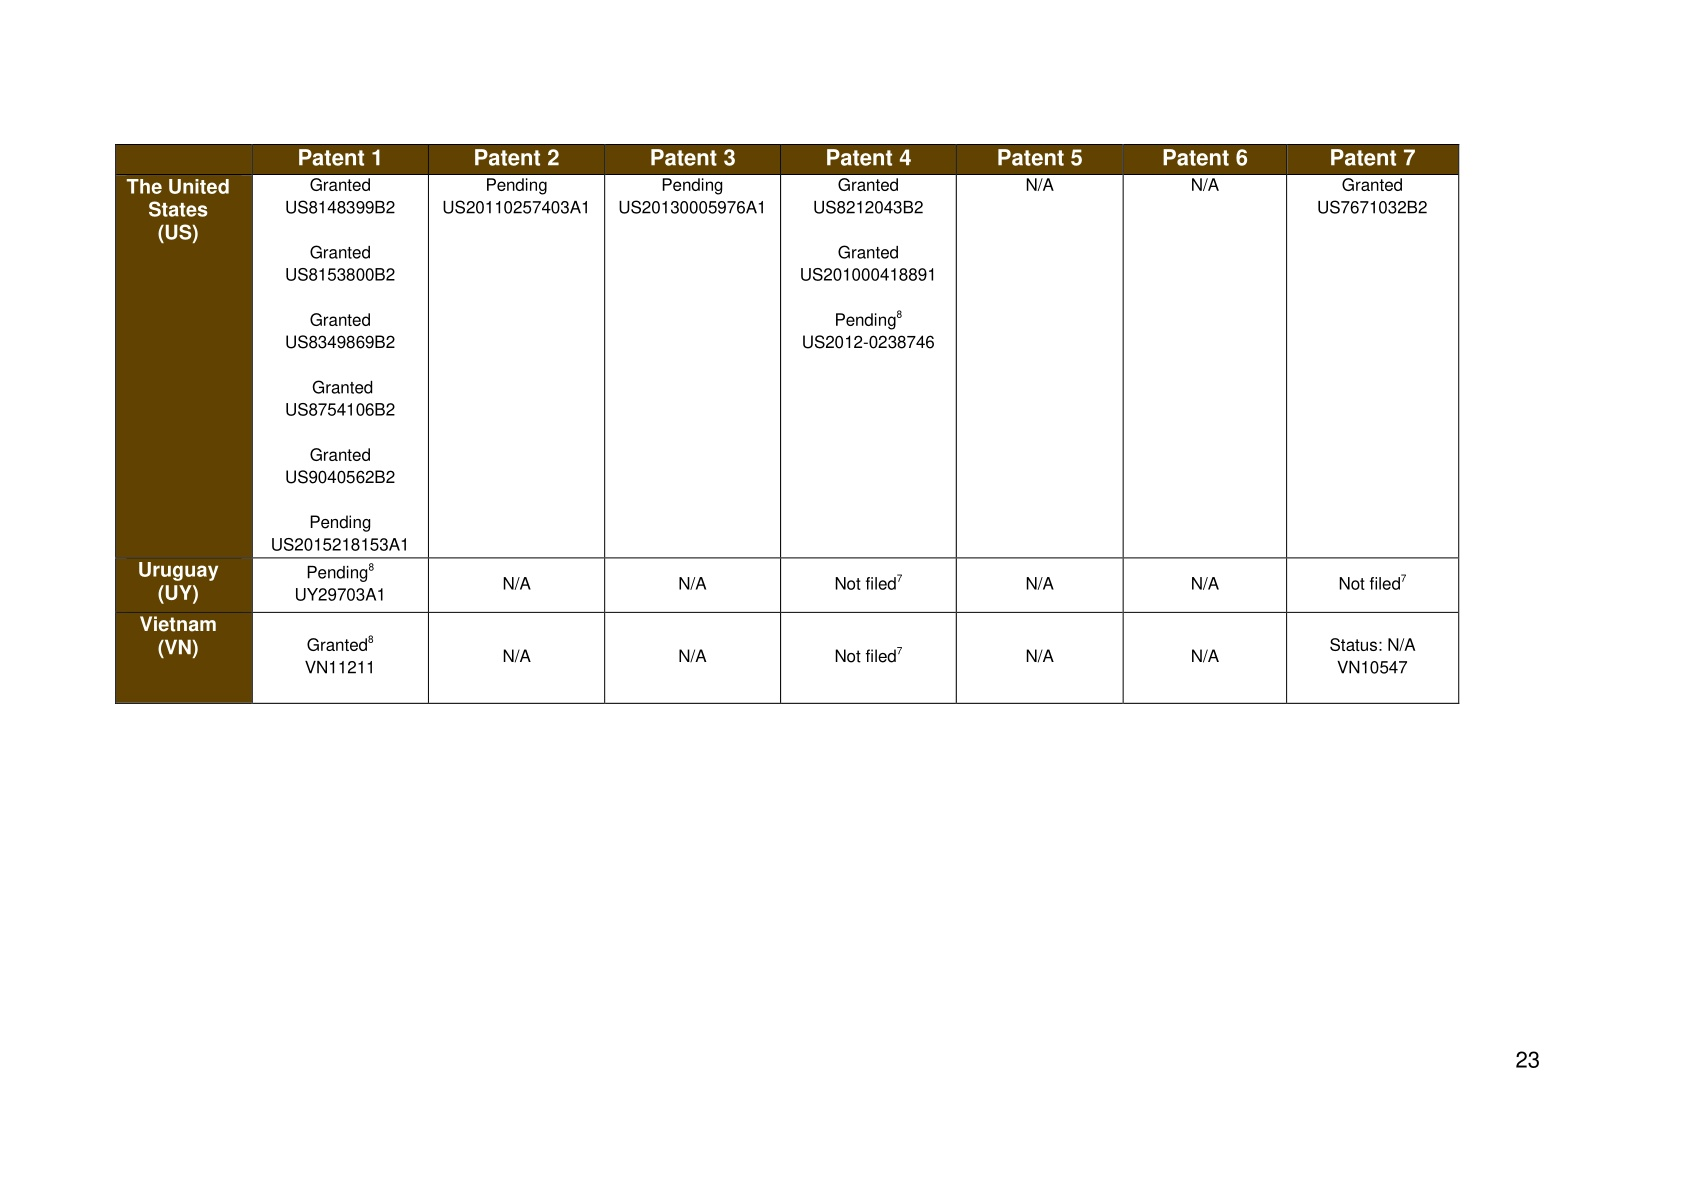full_lined: (113, 142, 1460, 705)
